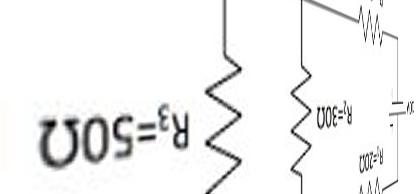resistor: (196, 44, 251, 193), (271, 55, 314, 180), (340, 10, 389, 44)
